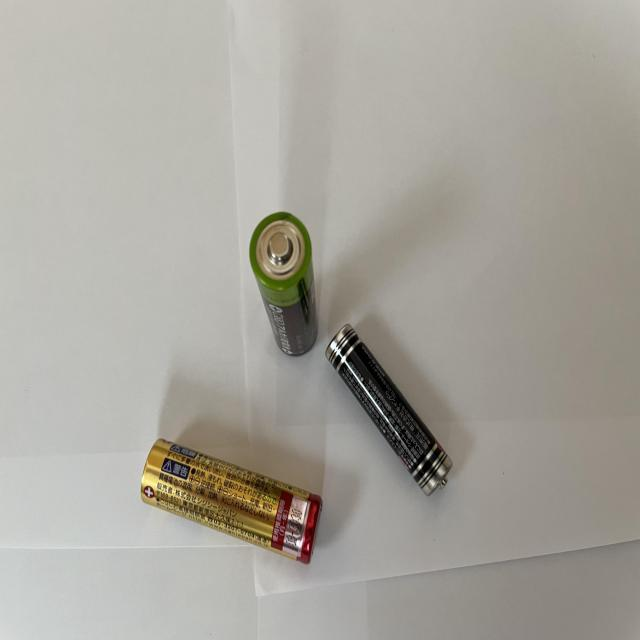AA: (137, 434, 325, 568), (248, 208, 322, 361)
AAA: (323, 319, 457, 500)
